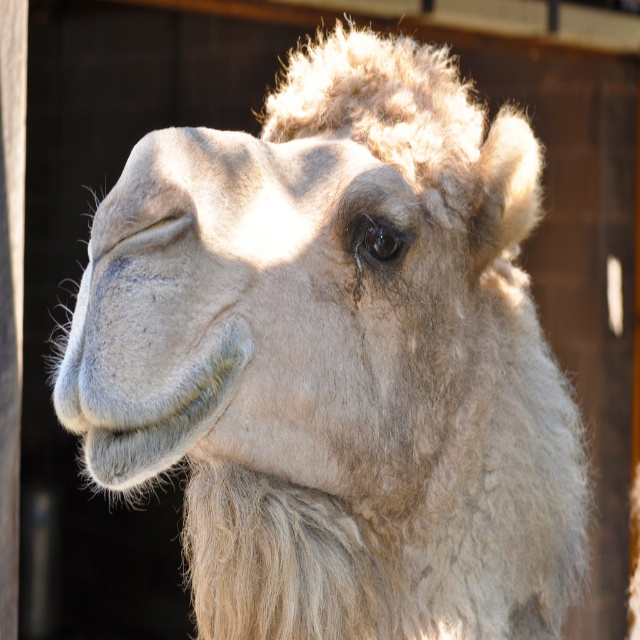Camel: (42, 7, 602, 639)
